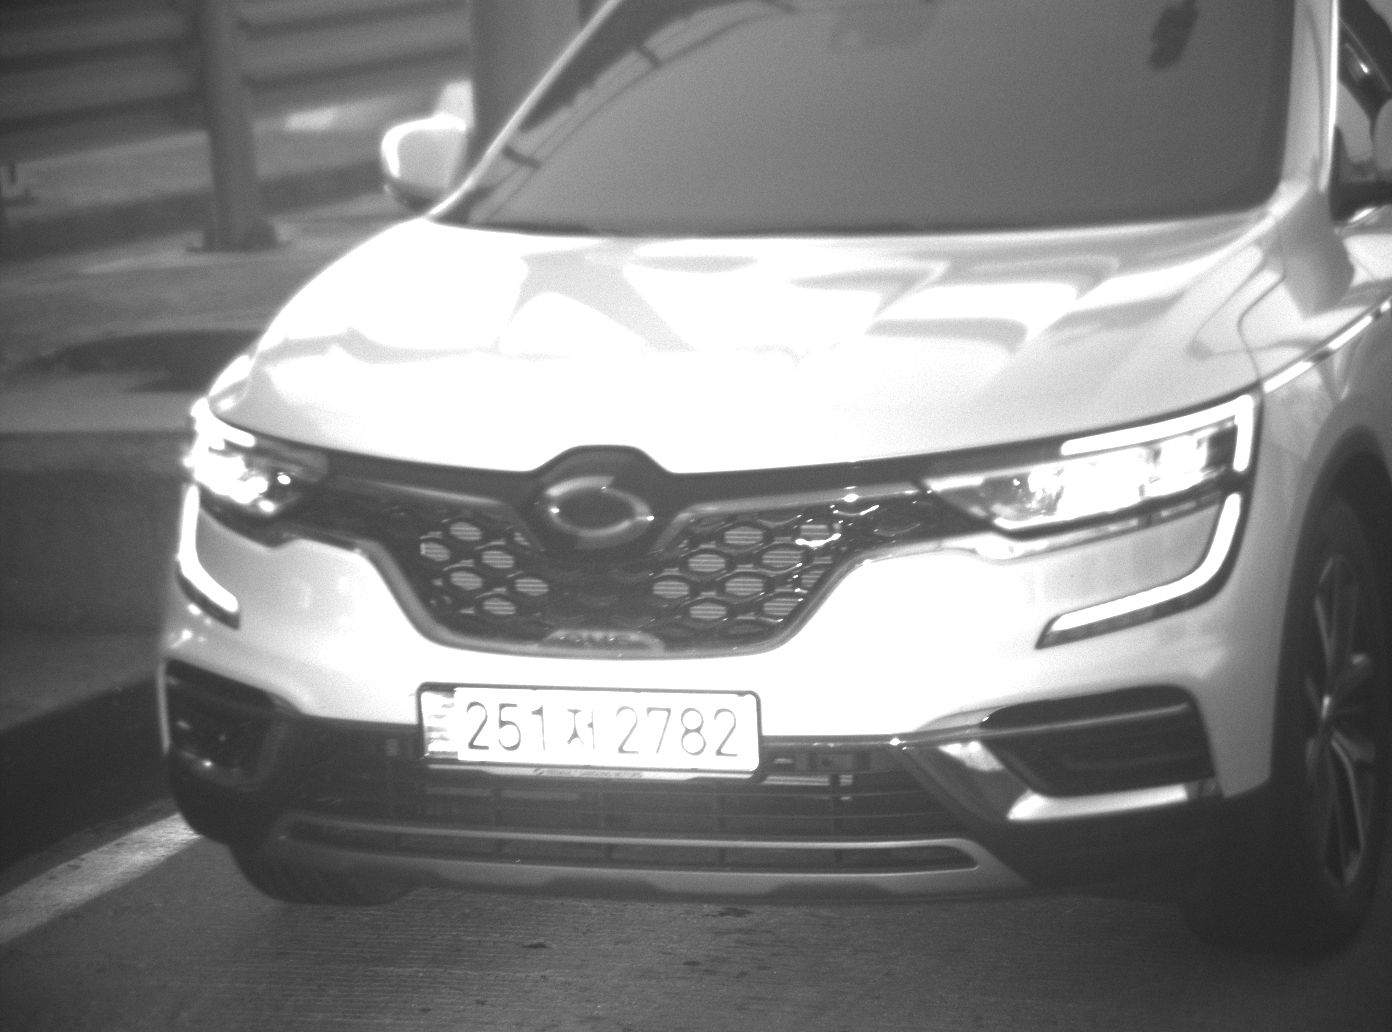car: (151, 1, 1390, 959)
plate: (415, 684, 763, 777)
